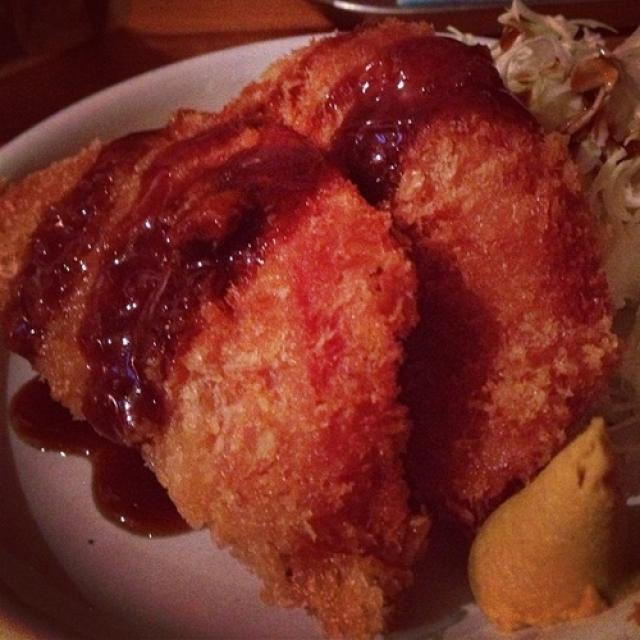炸货点心: (9, 21, 630, 604)
